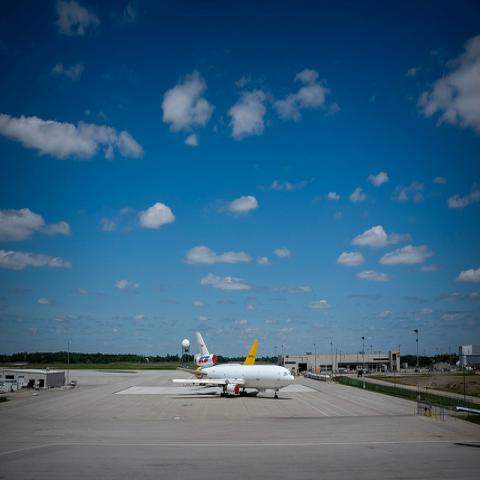truck: (70, 379, 77, 386)
